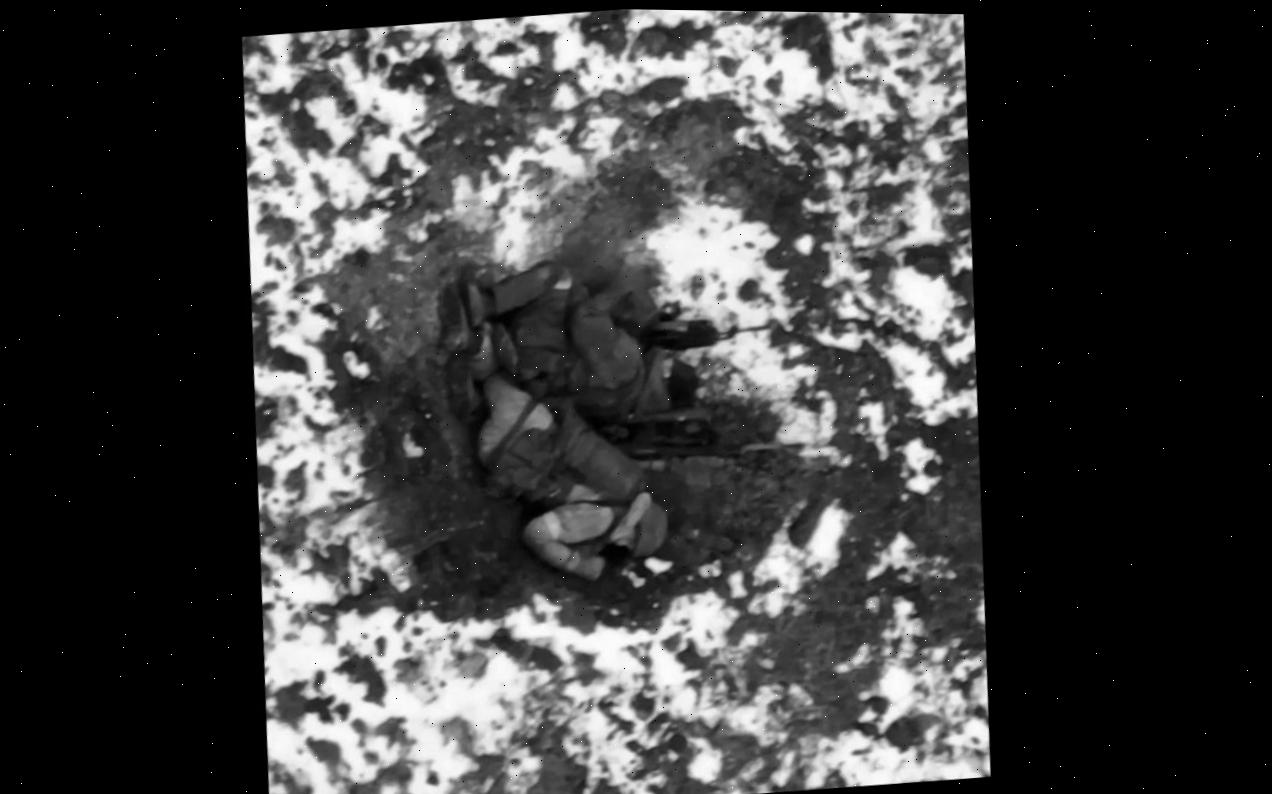person: (422, 268, 683, 595), (450, 238, 779, 436)
